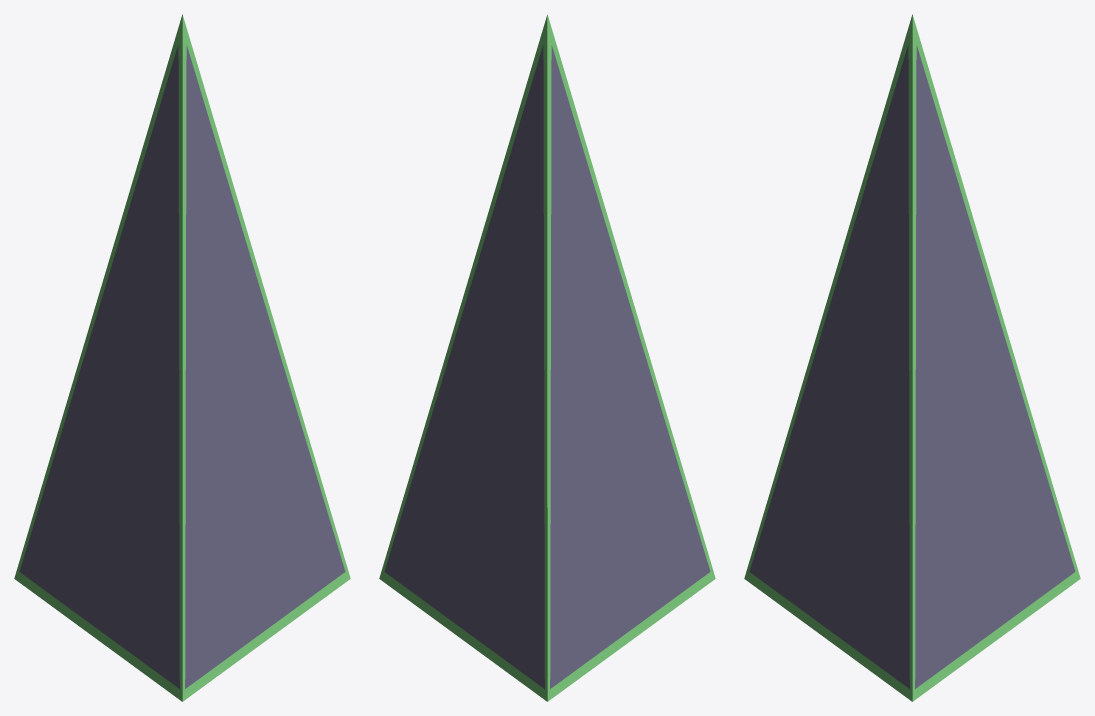
Rendered from Sankakusui.fbx.
3 views of the same model, side by side, from view 1: azimuth 30°, elevation 25°; view 2: azimuth 150°, elevation 25°; view 3: azimuth 270°, elevation 25° (orthographic).
Visible parts, largest first — view 1: Cone; view 2: Cone; view 3: Cone.
Part boxes in pixels (x1,y1,x2,y2): Cone: (14,14,350,701); Cone: (379,14,715,701); Cone: (744,14,1080,701).
Size of the model in its own units: 1.5 by 3.44 by 1.73.
